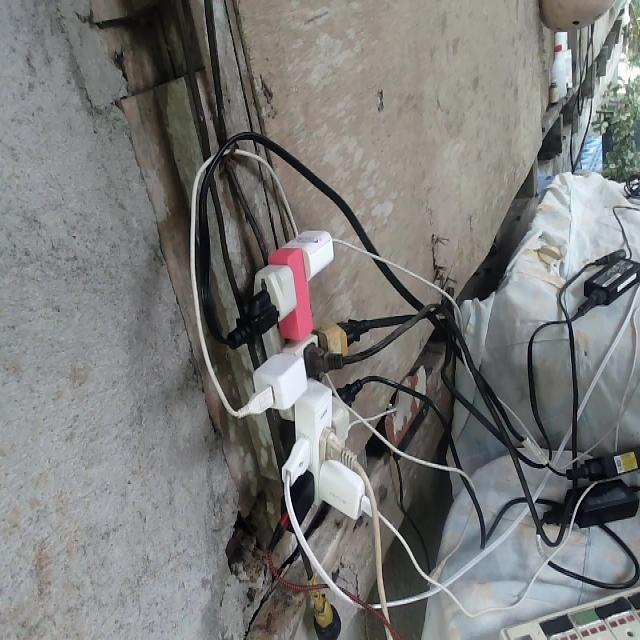-: (217, 228, 379, 544)
